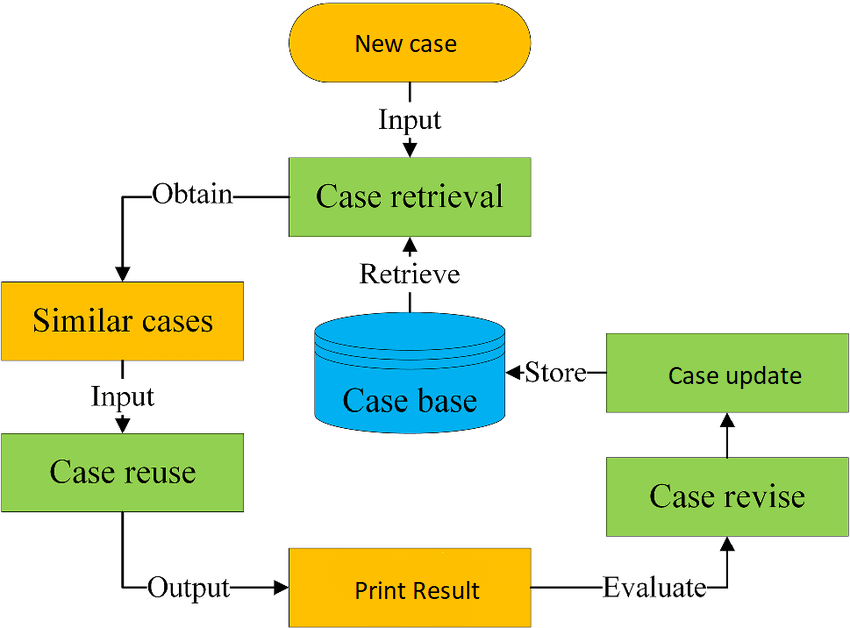arrow: (112, 192, 292, 284), (117, 509, 290, 597), (530, 536, 736, 593), (502, 363, 610, 382), (399, 234, 421, 314), (401, 79, 422, 157), (113, 359, 132, 433), (718, 409, 735, 456)
process: (311, 310, 510, 437), (1, 430, 246, 517), (284, 154, 534, 239), (285, 544, 535, 628), (604, 330, 850, 415), (2, 279, 246, 364)
terminator: (285, 4, 534, 86)
text: (29, 305, 214, 336), (315, 182, 505, 210), (649, 481, 808, 512), (48, 456, 198, 486), (667, 361, 806, 391), (340, 386, 478, 415), (353, 577, 482, 602), (601, 574, 710, 601), (358, 259, 463, 287), (145, 573, 231, 607), (353, 29, 458, 55), (152, 179, 234, 205), (377, 105, 443, 136), (90, 382, 155, 413), (525, 357, 587, 384)
